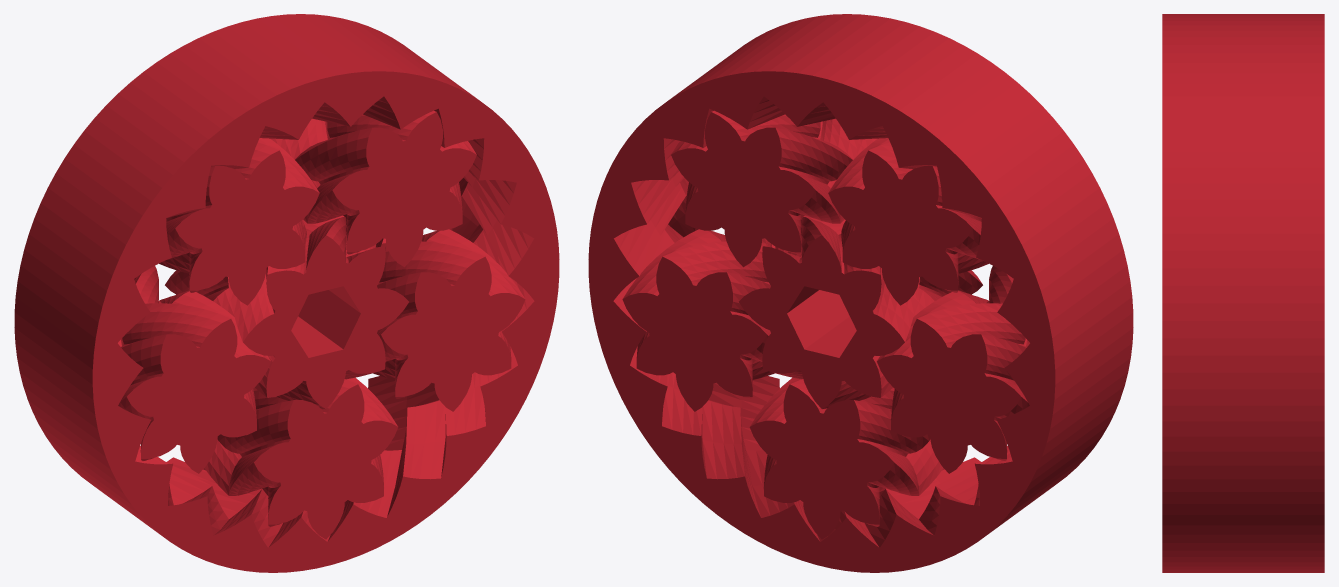
Rendered from fidget.gltf.
3 views of the same model, side by side, from view 1: azimuth 30°, elevation 25°; view 2: azimuth 150°, elevation 25°; view 3: azimuth 270°, elevation 25° (orthographic). The views are drawn at different scales.
Visible parts, largest first — view 1: outer, Empty, middle; view 2: outer, Empty, middle; view 3: outer.
Part boxes in pixels (x1=…): outer: x1=14, y1=14, x2=559, y2=572; Empty: x1=118, y1=110, x2=525, y2=539; middle: x1=165, y1=215, x2=408, y2=408; outer: x1=588, y1=14, x2=1133, y2=572; Empty: x1=622, y1=110, x2=1029, y2=539; middle: x1=739, y1=215, x2=982, y2=408; outer: x1=1162, y1=14, x2=1324, y2=572.
Size of the model in its own units: 5.17 by 5.17 by 1.5.
